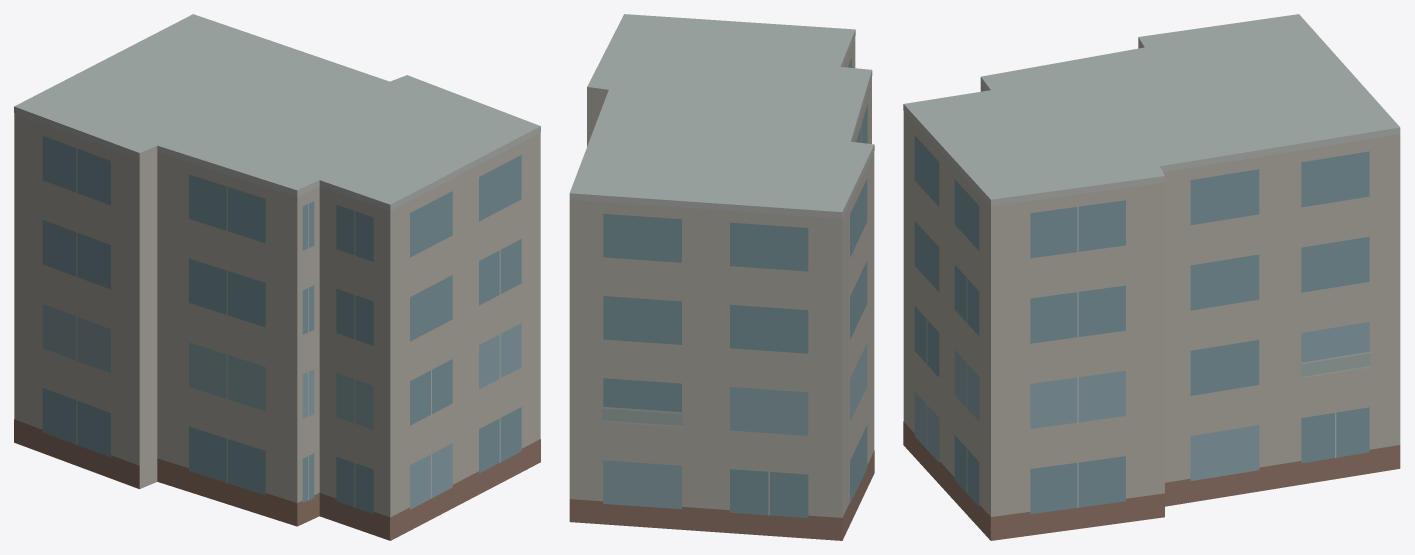
Rendered from survey-upis-32759965.glb.
The picture shows the model from 3 angles, left to right: view 1: azimuth 30°, elevation 25°; view 2: azimuth 150°, elevation 25°; view 3: azimuth 270°, elevation 25°; orthographic projection. The views are drawn at different scales.
Visible parts, largest first — view 1: survey-upis-32759965.tmp; view 2: survey-upis-32759965.tmp; view 3: survey-upis-32759965.tmp.
Boxes of the visible parts, x1,y1,x2,y2 form: survey-upis-32759965.tmp: [14, 14, 540, 540]; survey-upis-32759965.tmp: [569, 14, 874, 540]; survey-upis-32759965.tmp: [903, 14, 1400, 540].
Bounding box in the file's own units: 14.83 × 12.7 × 16.77.
